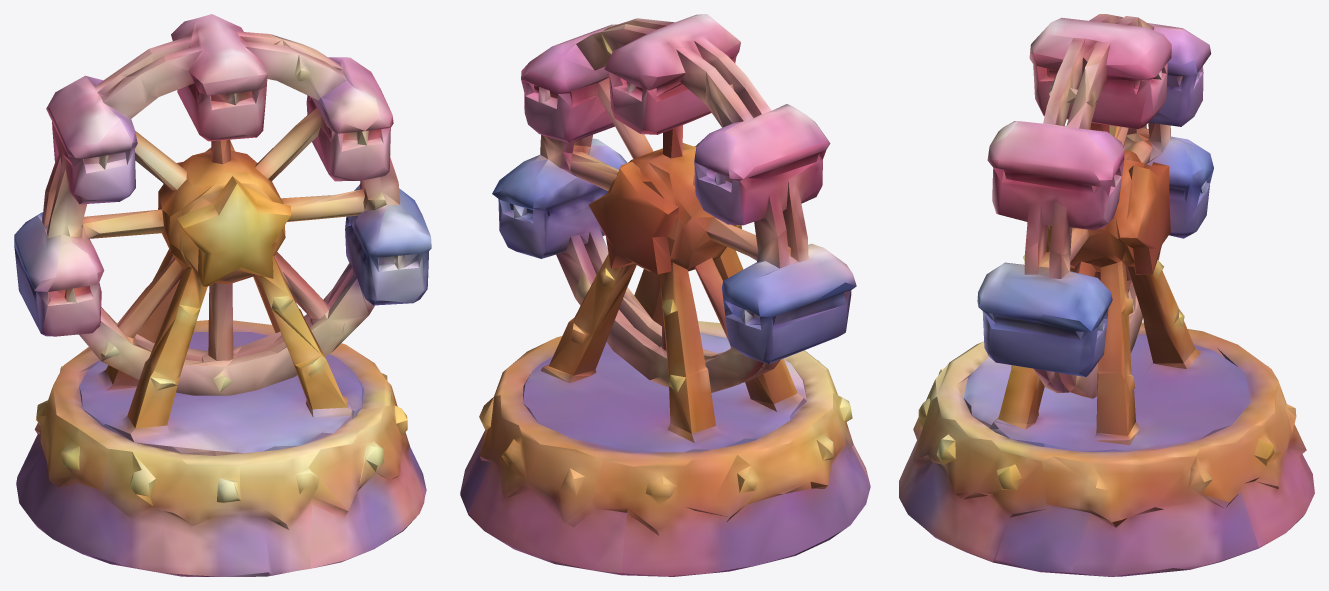
The model's file is deco08.glb.
3 renders of one model, left to right at view 1: azimuth 30°, elevation 25°; view 2: azimuth 150°, elevation 25°; view 3: azimuth 270°, elevation 25°, orthographic.
Bounding box in the file's own units: 0.2228 × 0.2659 × 0.2162.
Materials: 1 (1 with a texture image).
